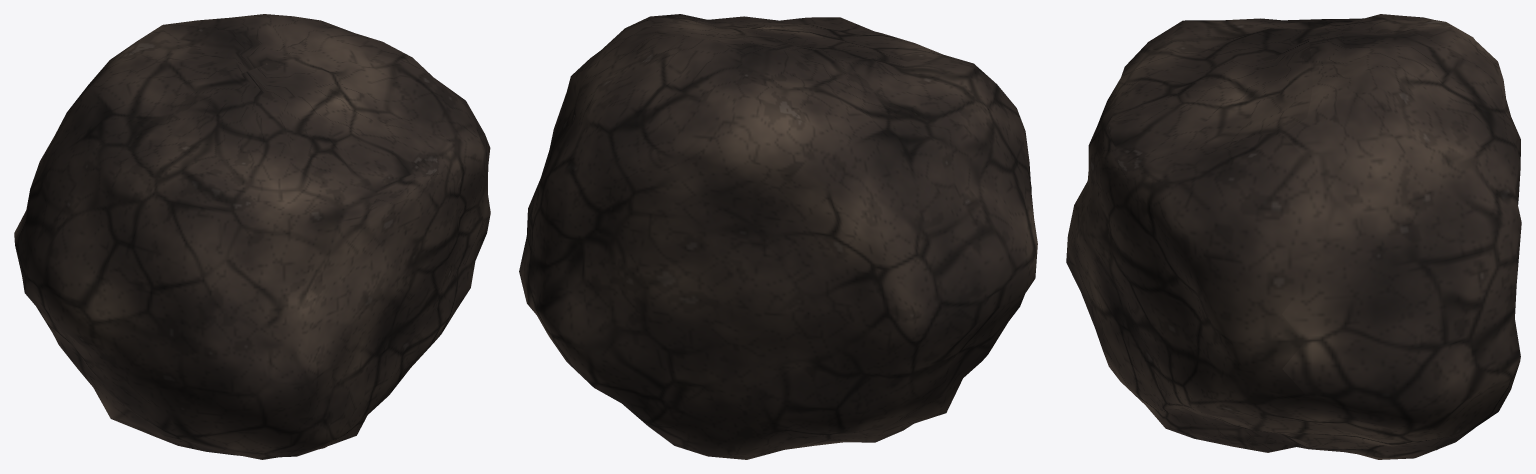
Rendered from rock_cool.glb.
3 renders of one model, left to right at view 1: azimuth 30°, elevation 25°; view 2: azimuth 150°, elevation 25°; view 3: azimuth 270°, elevation 25°, orthographic. The views are drawn at different scales.
Parts seen in each view (by area): view 1: rock; view 2: rock; view 3: rock.
Part boxes in pixels (box(x1,y1,x2,y2)): rock: box(14, 14, 490, 459); rock: box(519, 14, 1037, 459); rock: box(1066, 14, 1521, 459).
Size of the model in its own units: 2.04 by 1.74 by 1.71.
1 material, 1 textured.
